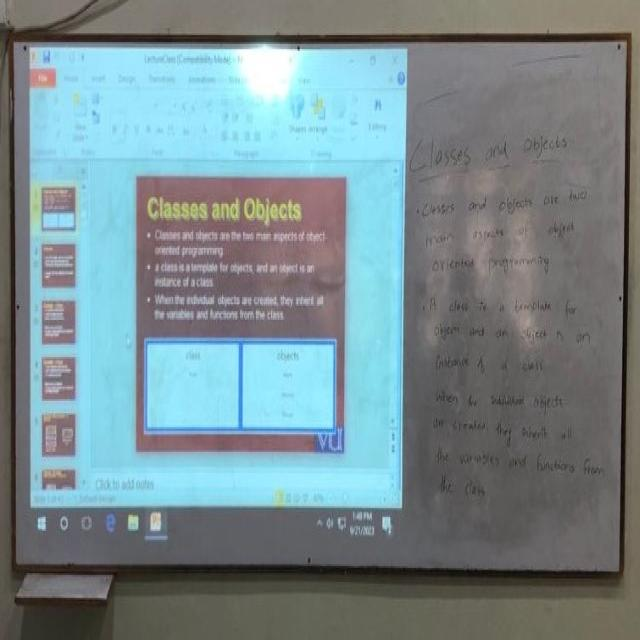Slide: (29, 37, 408, 549)
White-board: (14, 38, 632, 577)
